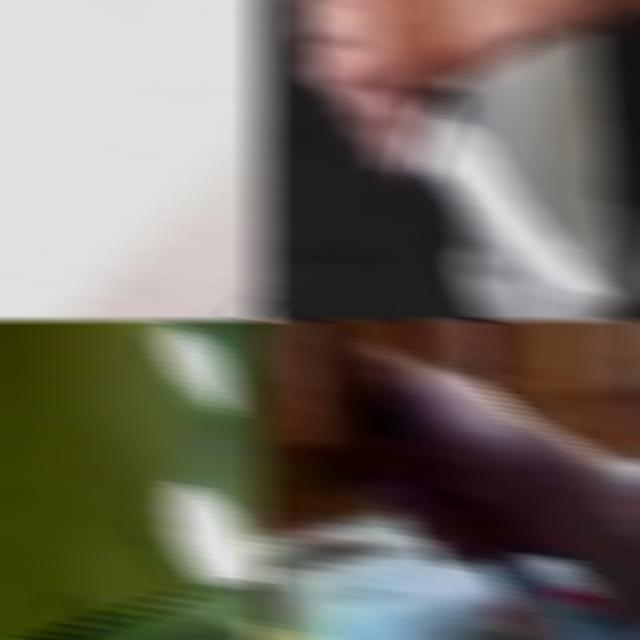Knife: (396, 89, 618, 304), (65, 135, 270, 321)
Knife_Handle: (290, 0, 618, 302), (347, 335, 618, 640), (0, 493, 270, 640)
